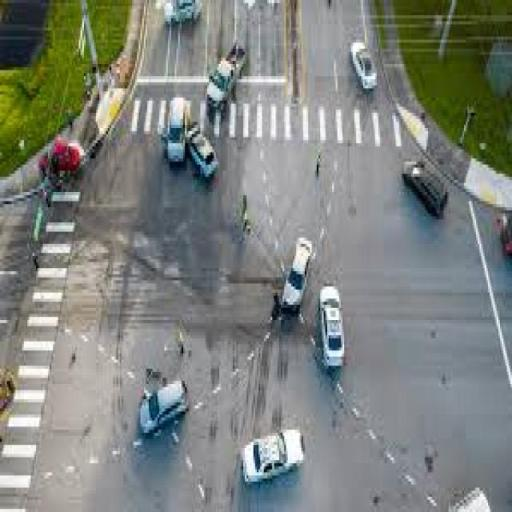小汽车: (242, 424, 305, 486), (138, 380, 200, 438), (205, 46, 250, 109), (318, 286, 348, 375), (279, 234, 312, 314), (402, 162, 448, 214), (348, 45, 380, 94)
小汽车撞小汽车: (164, 102, 216, 184)
